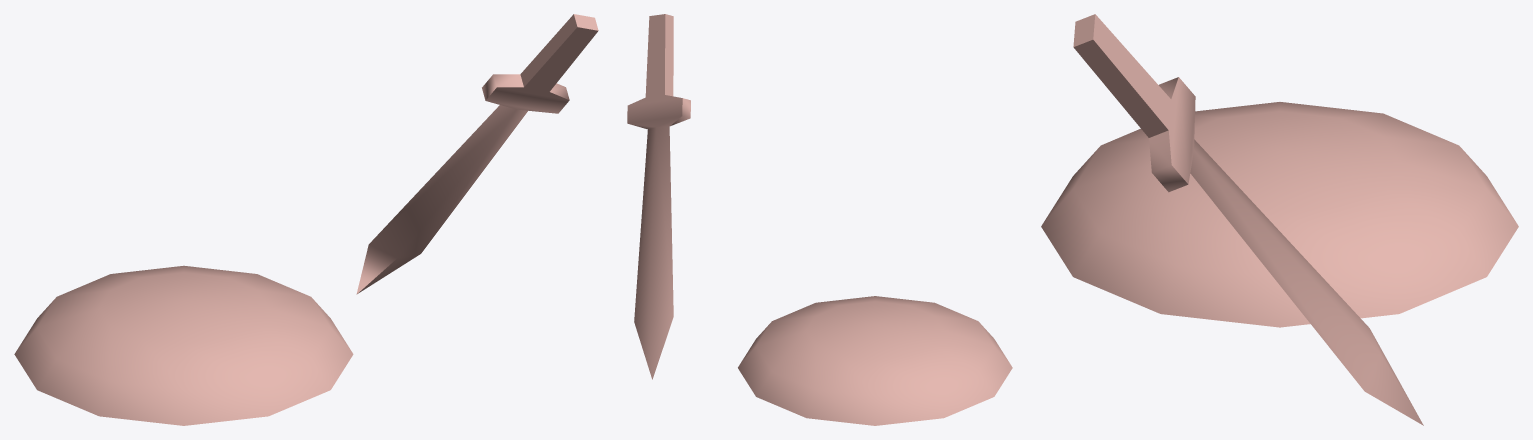
3 renders of one model, left to right at view 1: azimuth 30°, elevation 25°; view 2: azimuth 150°, elevation 25°; view 3: azimuth 270°, elevation 25°, orthographic. The views are drawn at different scales.
Parts seen in each view (by area): view 1: Object38; view 2: Object38; view 3: Object38.
Part boxes in pixels (left/top/right/bottom): Object38: left=14, top=14, right=598, bottom=425; Object38: left=627, top=14, right=1012, bottom=425; Object38: left=1041, top=14, right=1518, bottom=425.
Bounding box in the file's own units: 128 × 85.21 × 76.69.
